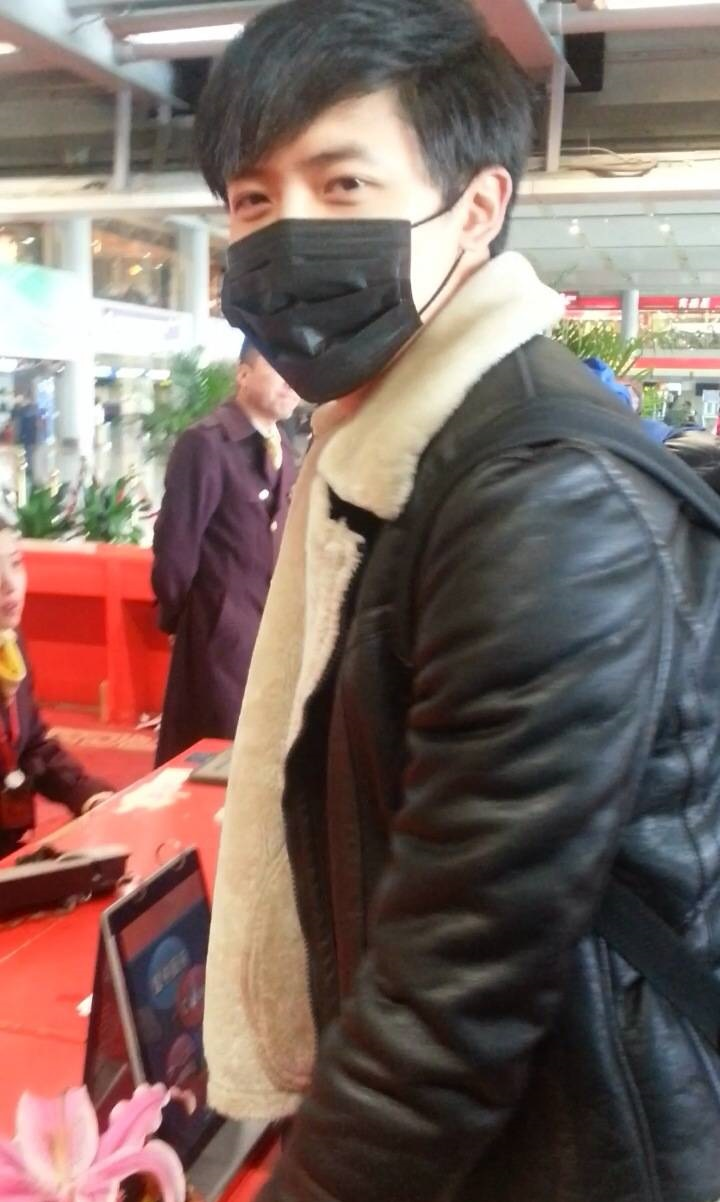face_mask: (216, 95, 418, 398)
